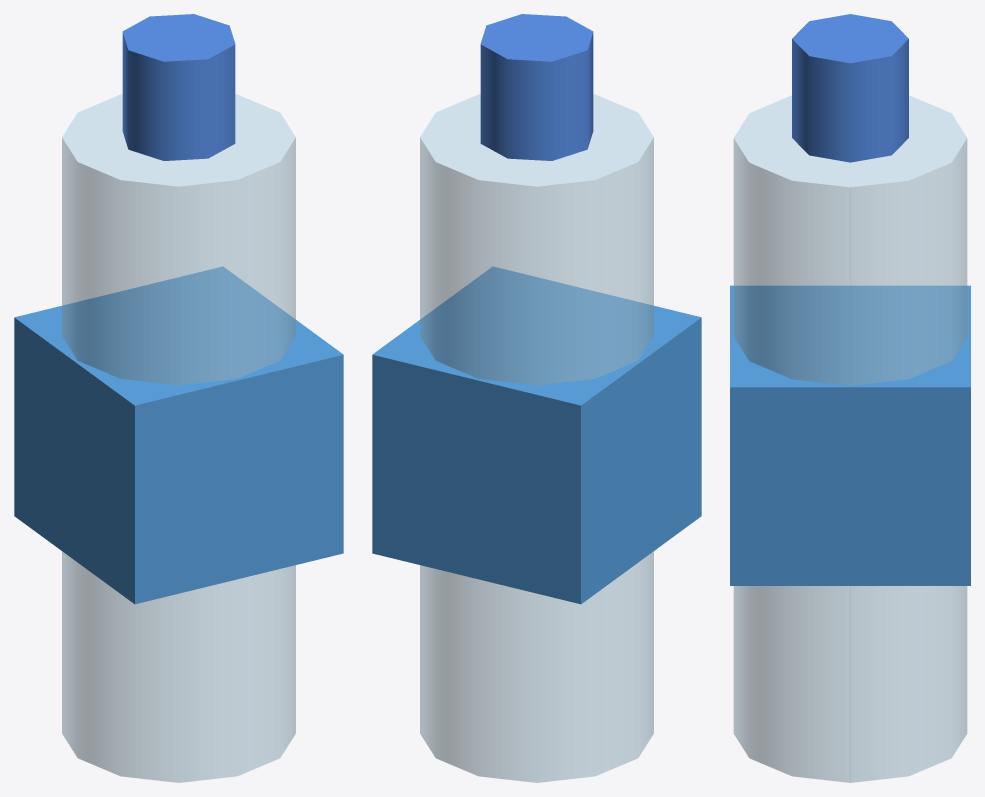
The model's file is water_bottle.glb.
The picture shows the model from 3 angles, left to right: view 1: azimuth 30°, elevation 25°; view 2: azimuth 150°, elevation 25°; view 3: azimuth 270°, elevation 25°; orthographic projection.
Parts seen in each view (by area): view 1: water_bottle_std, water_bottle_glass; view 2: water_bottle_std, water_bottle_glass; view 3: water_bottle_glass, water_bottle_std.
Boxes of the visible parts, x1,y1,x2,y2 form: water_bottle_std: [14, 14, 343, 604]; water_bottle_glass: [62, 94, 295, 782]; water_bottle_std: [372, 14, 701, 604]; water_bottle_glass: [420, 94, 653, 782]; water_bottle_glass: [733, 95, 967, 782]; water_bottle_std: [730, 14, 970, 585].
Bounding box in the file's own units: 0.066 × 0.21 × 0.066.
